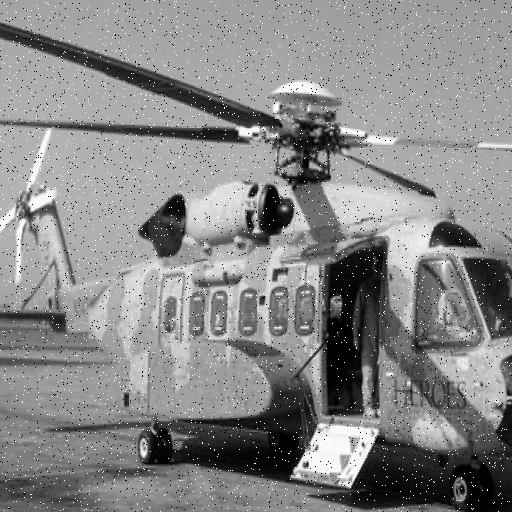helicopter: (1, 10, 512, 512)
